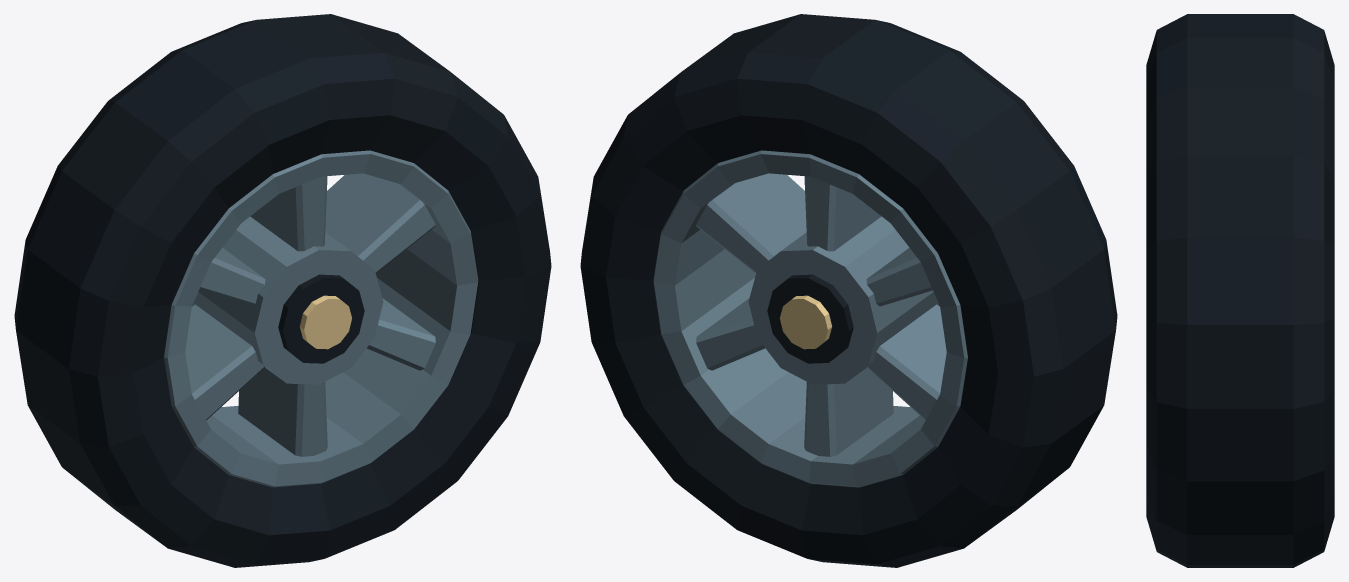
Rendered from QC_Wheel.fbx.
3 renders of one model, left to right at view 1: azimuth 30°, elevation 25°; view 2: azimuth 150°, elevation 25°; view 3: azimuth 270°, elevation 25°, orthographic.
Parts seen in each view (by area): view 1: QC_Wheel; view 2: QC_Wheel; view 3: QC_Wheel.
Boxes of the visible parts, box(x1,y1,x2,y2) form: QC_Wheel: box(14, 14, 551, 567); QC_Wheel: box(580, 14, 1117, 567); QC_Wheel: box(1146, 14, 1334, 567).
Bounding box in the file's own units: 0.8 × 0.8 × 0.27.
